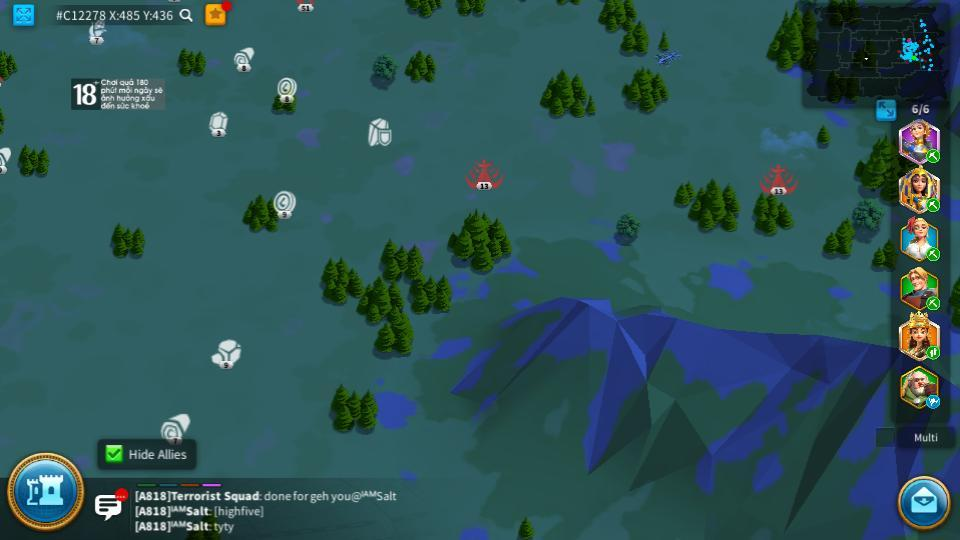gem-z-out: (206, 112, 229, 135)
march_farming: (925, 197, 941, 212), (925, 149, 941, 162)
march_idle: (925, 396, 942, 408)
march_marching: (926, 345, 941, 359), (925, 297, 942, 308)
